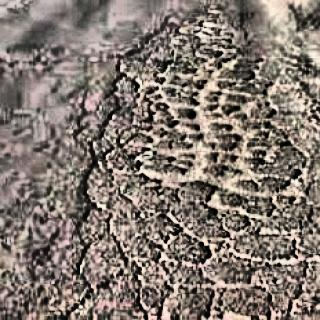alligator-crack: (58, 9, 320, 318)
